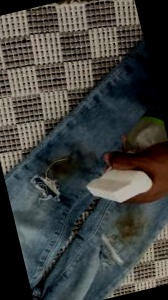earth: (113, 210, 139, 239), (48, 156, 81, 178)
